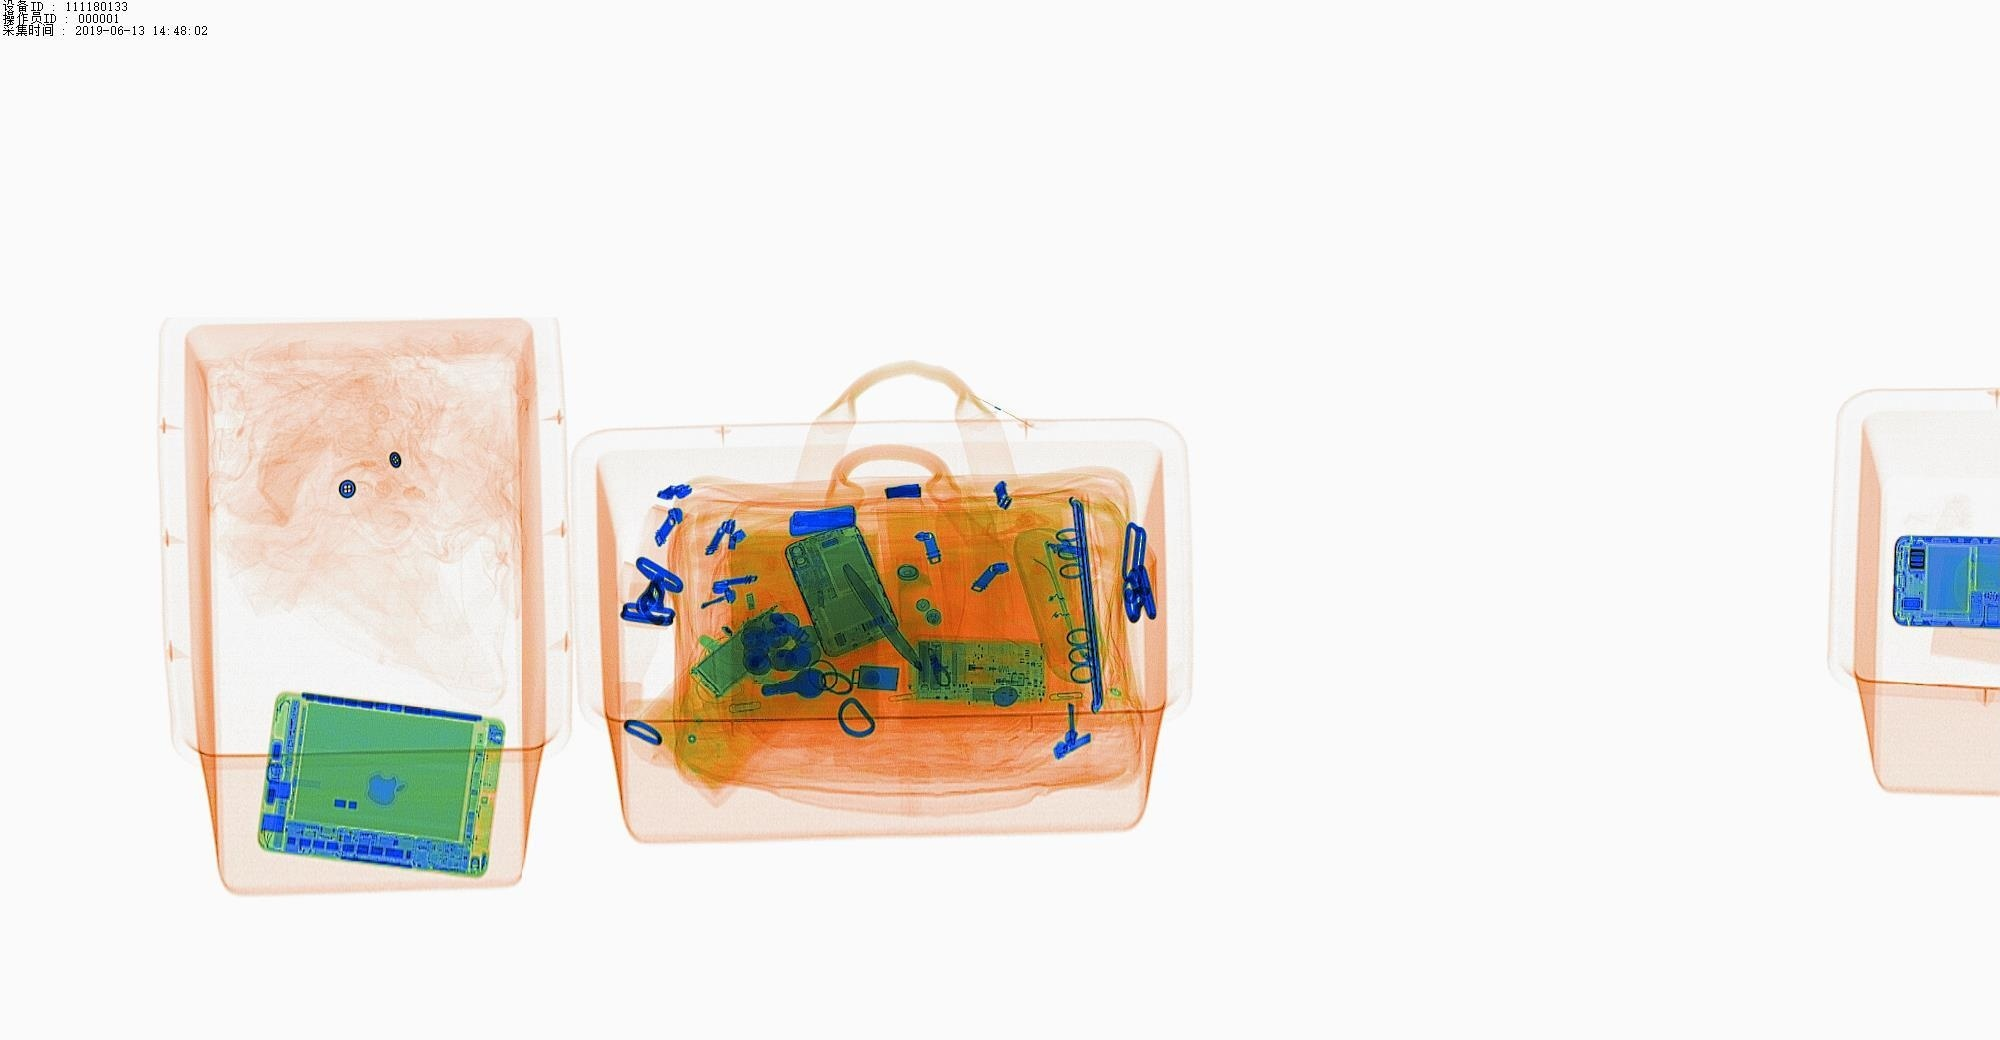NonmetallicFire: (934, 652, 1050, 703)
